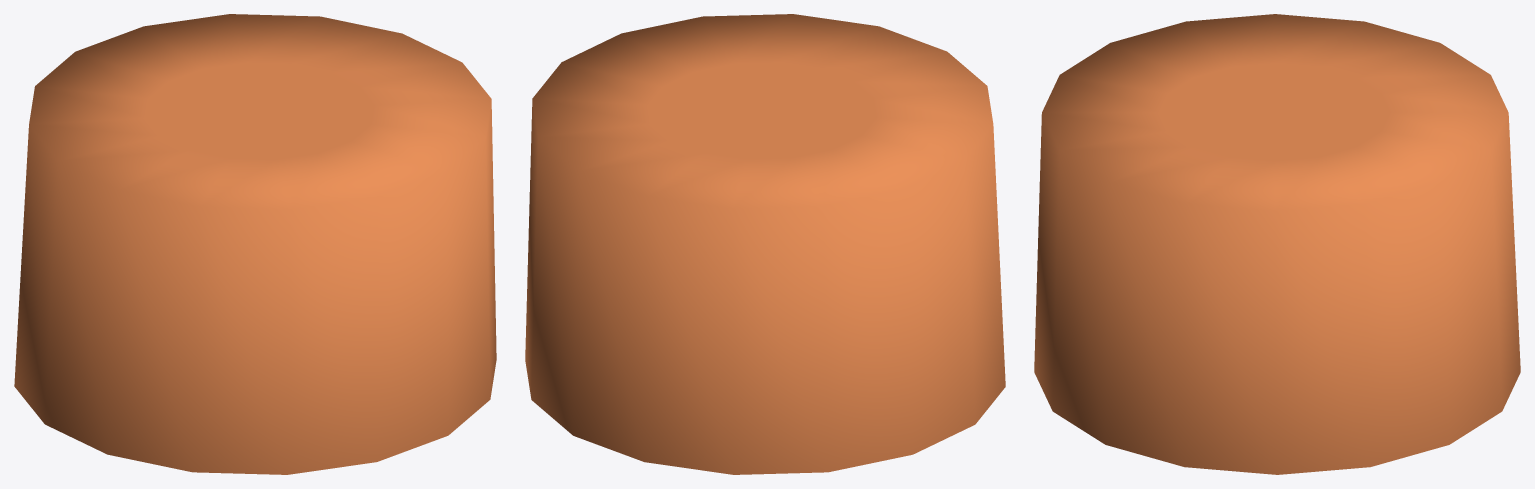
File: Stump 1.fbx
3 views of the same model, side by side, from view 1: azimuth 30°, elevation 25°; view 2: azimuth 150°, elevation 25°; view 3: azimuth 270°, elevation 25° (orthographic).
Parts seen in each view (by area): view 1: Stump; view 2: Stump; view 3: Stump.
Boxes of the visible parts, bbox=[...] form: Stump: bbox=[14, 14, 496, 474]; Stump: bbox=[525, 14, 1005, 474]; Stump: bbox=[1034, 14, 1520, 474].
Bounding box in the file's own units: 85 × 50.37 × 85.
